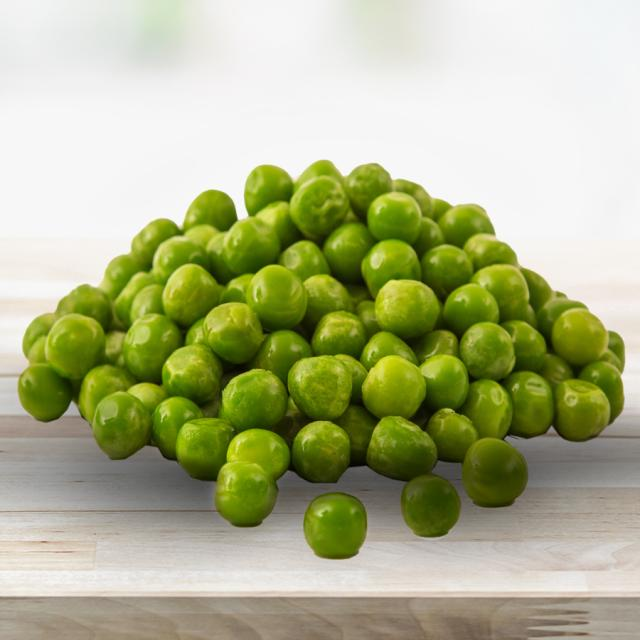arvejas: (7, 136, 637, 578)
